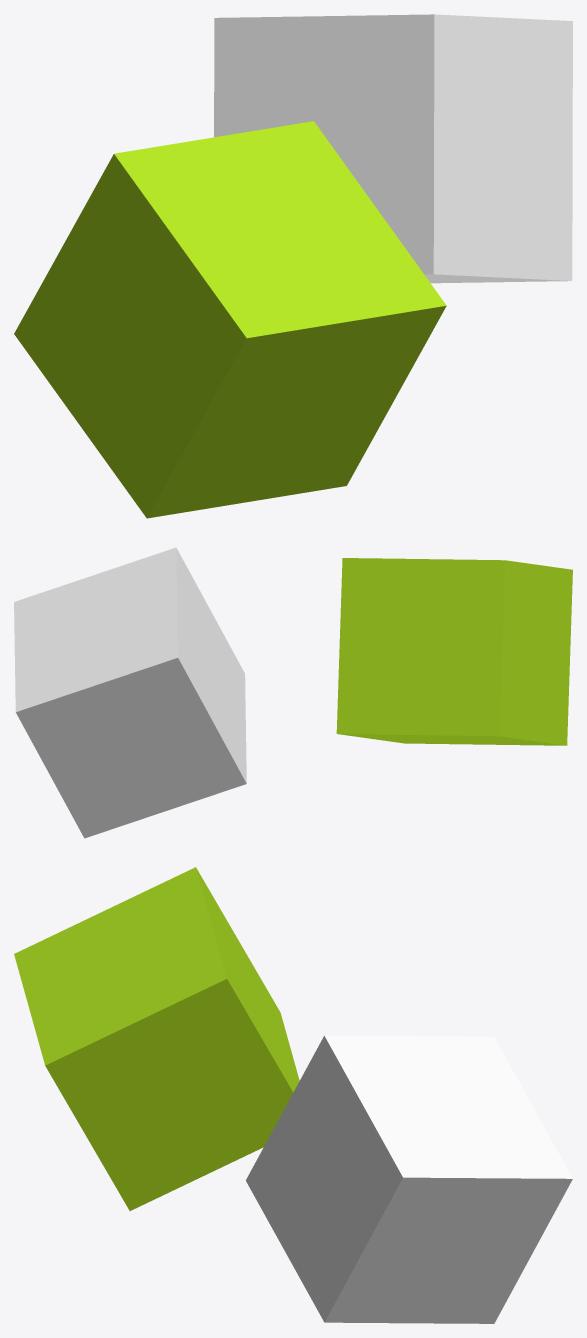
Rendered from cubes.glb.
3 renders of one model, top to bottom at view 1: azimuth 30°, elevation 25°; view 2: azimuth 150°, elevation 25°; view 3: azimuth 270°, elevation 25°, orthographic. The views are drawn at different scales.
Parts seen in each view (by area): view 1: Cube.001, Cube; view 2: Cube, Cube.001; view 3: Cube, Cube.001.
Boxes of the visible parts, x1=… form: Cube.001: x1=14, y1=121, x2=446, y2=518; Cube: x1=214, y1=14, x2=572, y2=283; Cube: x1=14, y1=547, x2=246, y2=838; Cube.001: x1=336, y1=558, x2=572, y2=745; Cube: x1=246, y1=1035, x2=572, y2=1323; Cube.001: x1=14, y1=867, x2=299, y2=1210.
Bounding box in the file's own units: 5.66 × 3.19 × 5.5.
